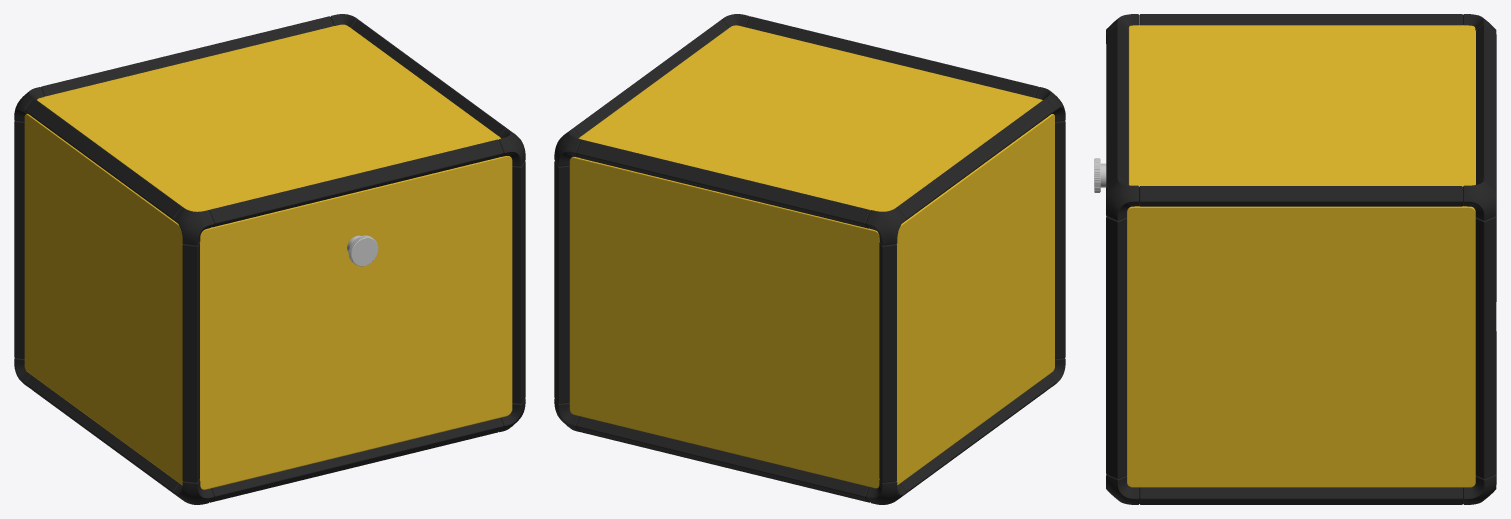
3 renders of one model, left to right at view 1: azimuth 30°, elevation 25°; view 2: azimuth 150°, elevation 25°; view 3: azimuth 270°, elevation 25°, orthographic. The views are drawn at different scales.
Parts seen in each view (by area): view 1: 420x374x330; view 2: 420x374x330; view 3: 420x374x330.
Boxes of the visible parts, x1,y1,x2,y2 form: 420x374x330: (14,14,525,504); 420x374x330: (554,14,1065,504); 420x374x330: (1094,14,1496,504).
Bounding box in the file's own units: 0.4977 × 0.4065 × 0.4646.
